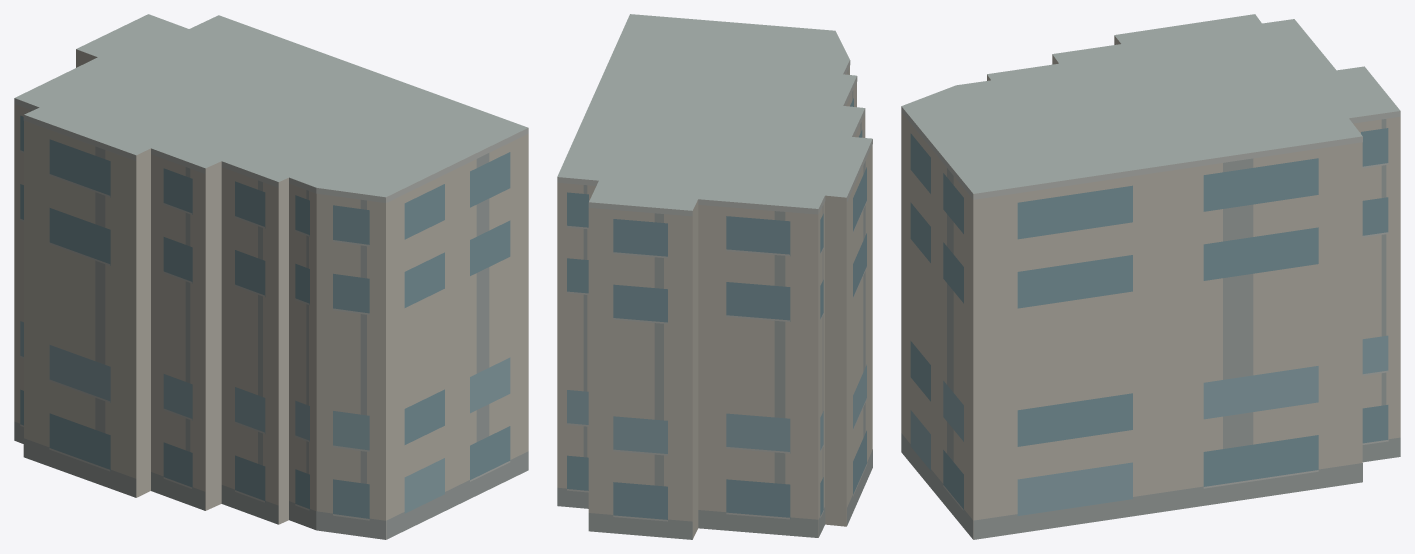
File: survey-upis-32794912.glb
3 renders of one model, left to right at view 1: azimuth 30°, elevation 25°; view 2: azimuth 150°, elevation 25°; view 3: azimuth 270°, elevation 25°, orthographic. The views are drawn at different scales.
Parts seen in each view (by area): view 1: survey-upis-32794912.tmp; view 2: survey-upis-32794912.tmp; view 3: survey-upis-32794912.tmp.
Part boxes in pixels (x1,y1,x2,y2): survey-upis-32794912.tmp: (14, 14, 528, 539); survey-upis-32794912.tmp: (557, 14, 872, 539); survey-upis-32794912.tmp: (901, 14, 1400, 539).
Bounding box in the file's own units: 15.96 × 14.3 × 18.71.
